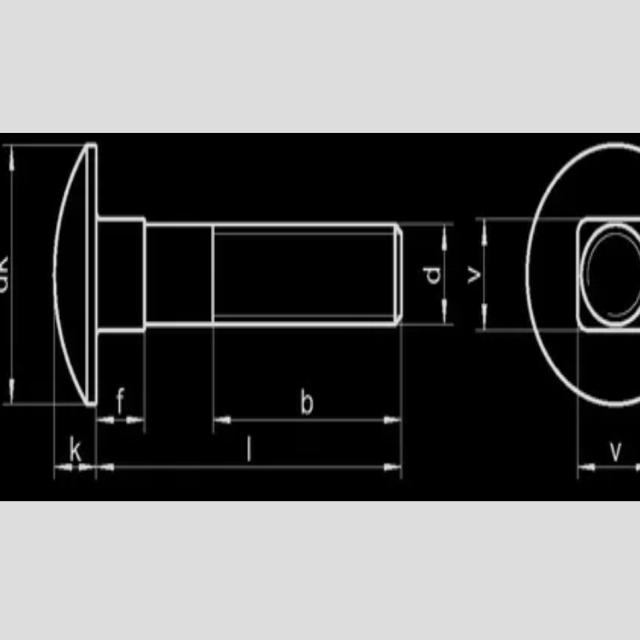marking_line: (92, 408, 407, 479), (208, 328, 406, 434), (3, 141, 53, 410), (474, 213, 525, 334), (405, 222, 455, 329), (576, 412, 640, 482), (50, 408, 100, 483), (95, 407, 152, 431)
